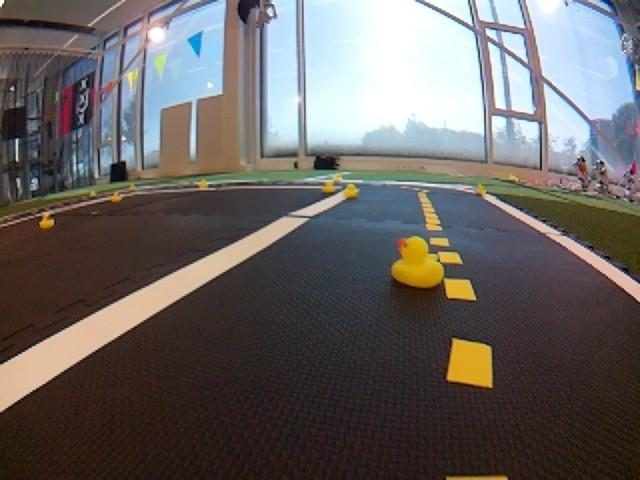Duckies: (391, 236, 445, 292), (341, 182, 360, 199), (40, 213, 54, 228), (321, 182, 336, 192), (475, 184, 486, 195), (112, 192, 123, 201), (199, 180, 208, 189), (333, 174, 342, 181), (90, 192, 98, 198), (129, 184, 136, 189)
